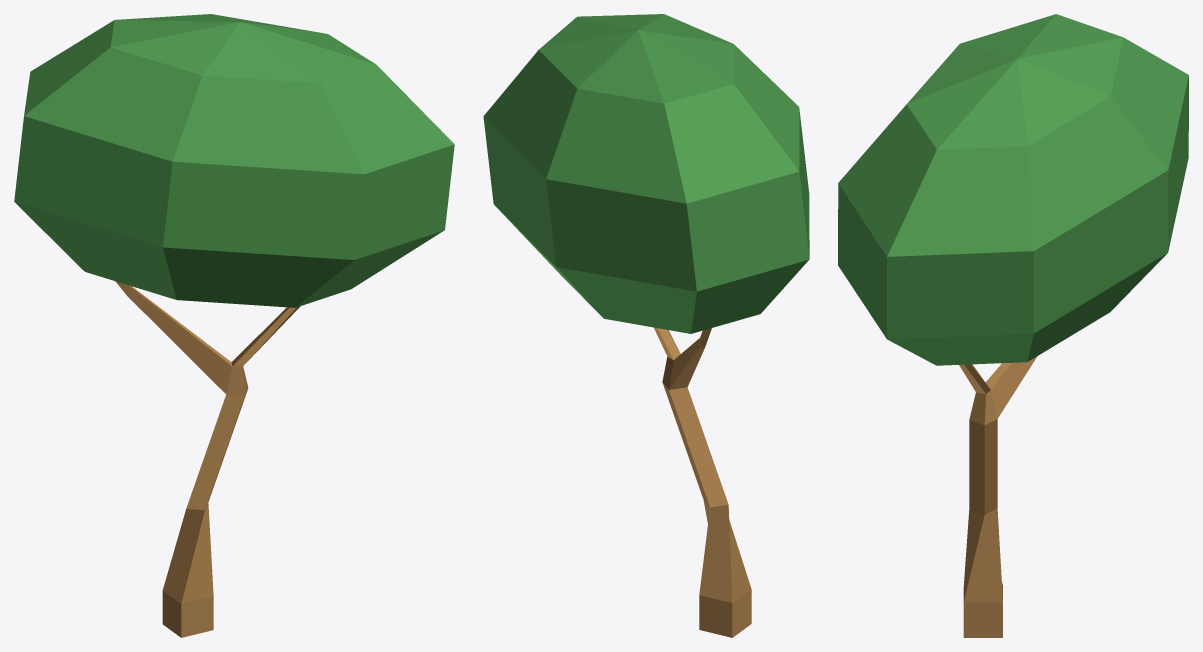
The model's file is tree1.fbx.
3 renders of one model, left to right at view 1: azimuth 30°, elevation 25°; view 2: azimuth 150°, elevation 25°; view 3: azimuth 270°, elevation 25°, orthographic. The views are drawn at different scales.
Visible parts, largest first — view 1: pSphere1, pCube1; view 2: pSphere1, pCube1; view 3: pSphere1, pCube1.
Part boxes in pixels (box(x1,y1,x2,y2)): pSphere1: box(14, 14, 454, 307); pCube1: box(115, 281, 300, 637); pSphere1: box(483, 14, 809, 333); pCube1: box(654, 327, 751, 637); pSphere1: box(838, 14, 1188, 365); pCube1: box(959, 356, 1037, 637).
Size of the model in its own units: 10.54 by 16.65 by 8.74.
